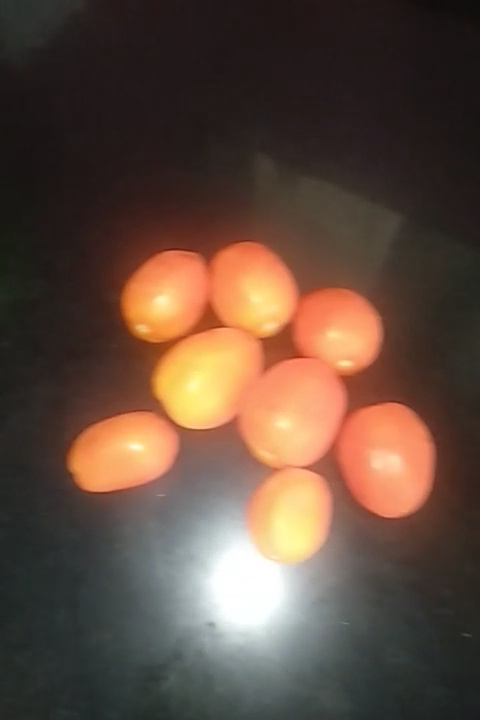tomato: (346, 396, 443, 522), (241, 357, 339, 461), (208, 237, 298, 342), (247, 461, 338, 562), (154, 332, 257, 420), (71, 405, 187, 482), (296, 285, 385, 375), (129, 248, 211, 335)
